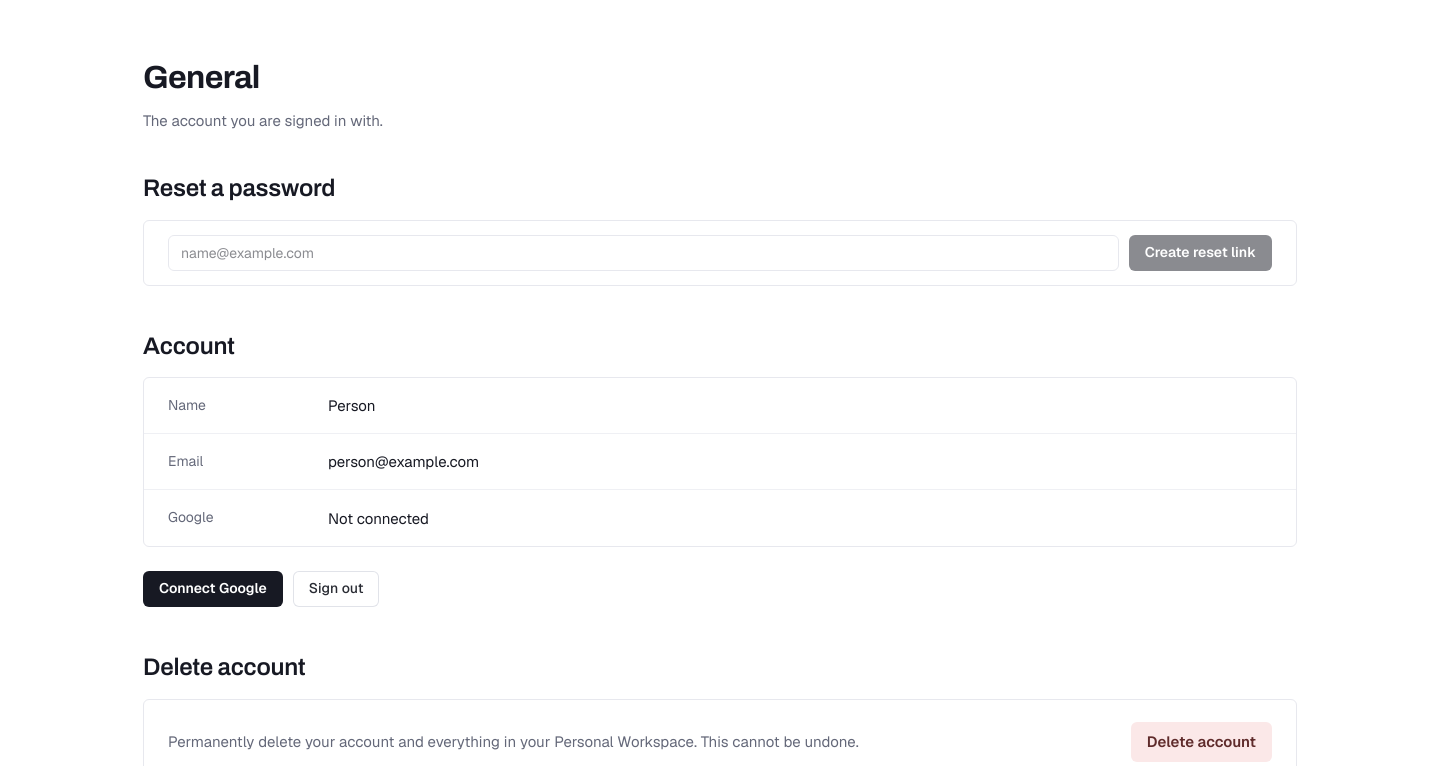
Test case: SettingsPage › explains a refused reset link instead of the server's refusal text, and keeps any other error's message
Type "admin@example.com" into the field named "Member's email" at (643, 253), box [168,235,1119,271]
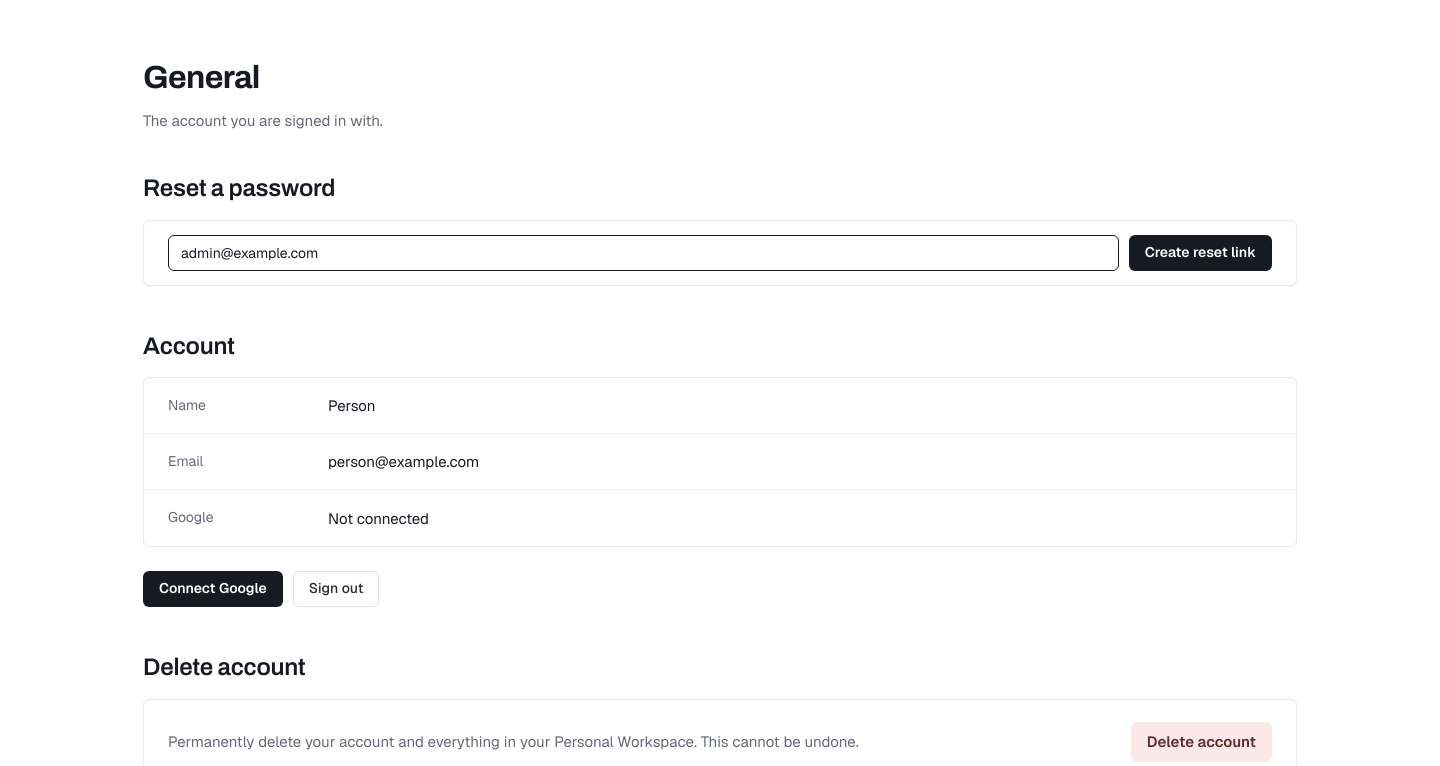
Click the button "Create reset link" at (1200, 253), box [1129,235,1272,271]
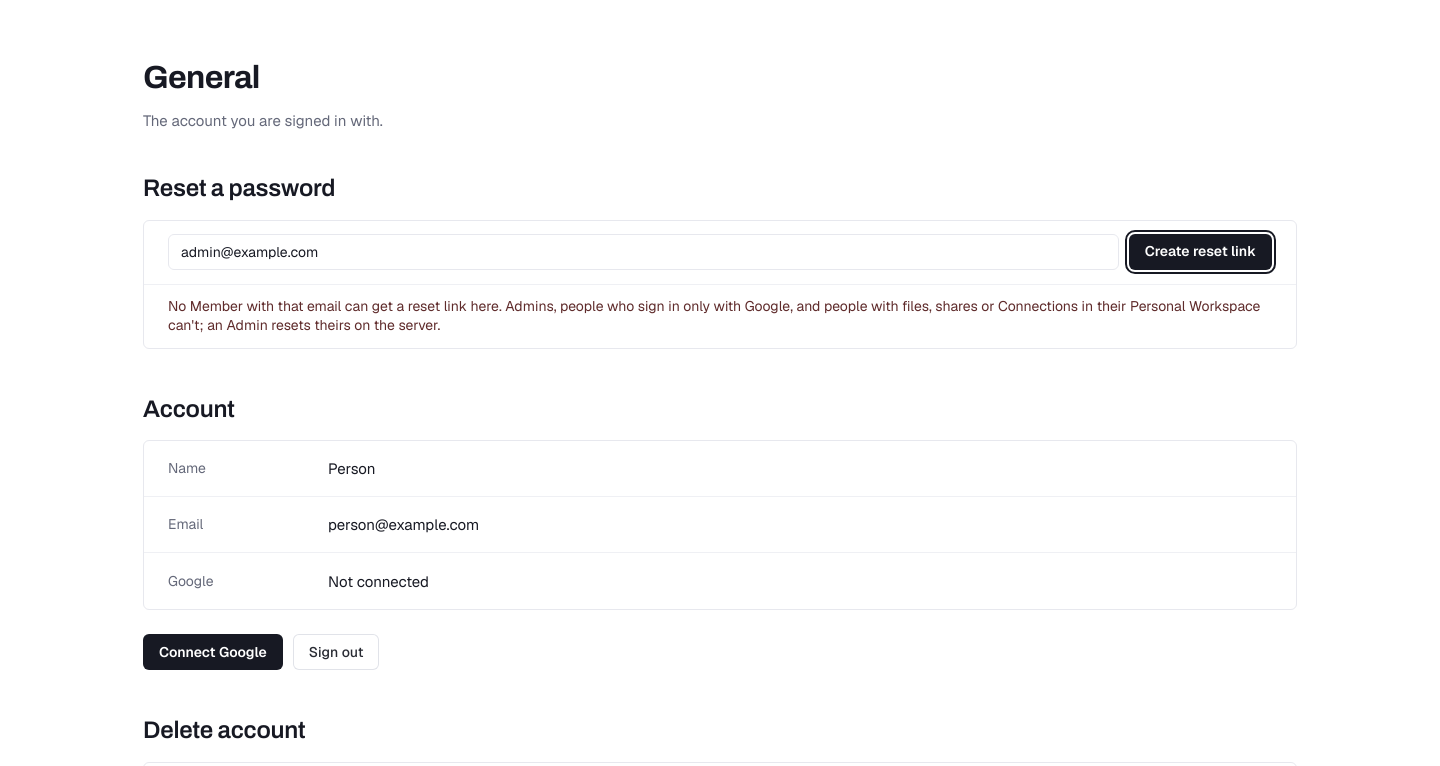
Expected: the text "No Member with that email can get a reset link here. Admins, people who sign in only with Google, and people with files," is shown, [168,297,1260,334]
Click the button "Create reset link" at (1200, 252), box [1129,234,1272,270]
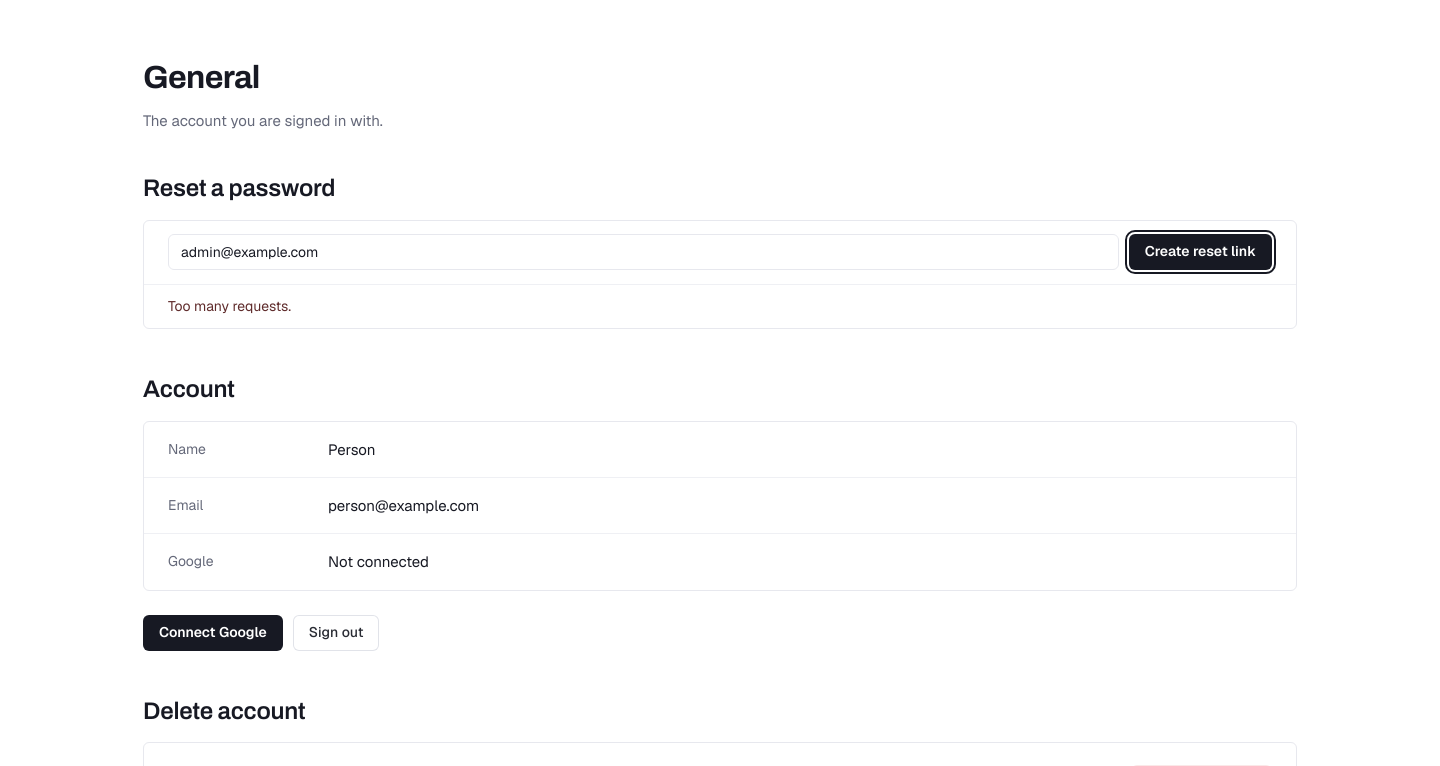
Expected: the text "Too many requests." is shown, [168,297,291,315]
Expected: the text "No Member with that email can get a reset link here. Admins, people who sign in only with Google, and people with files," is gone
